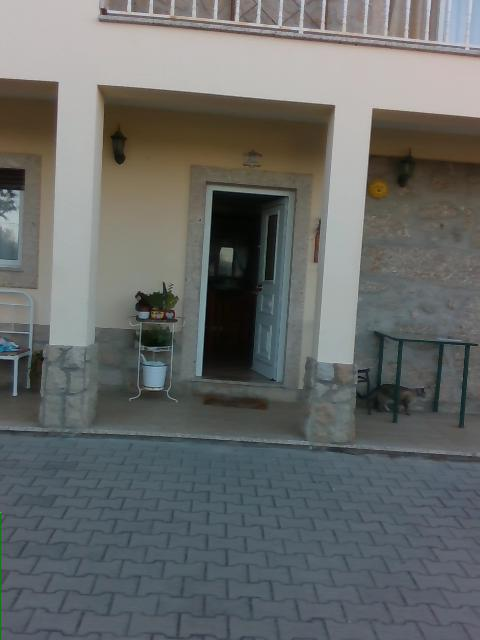door: (251, 193, 285, 384)
